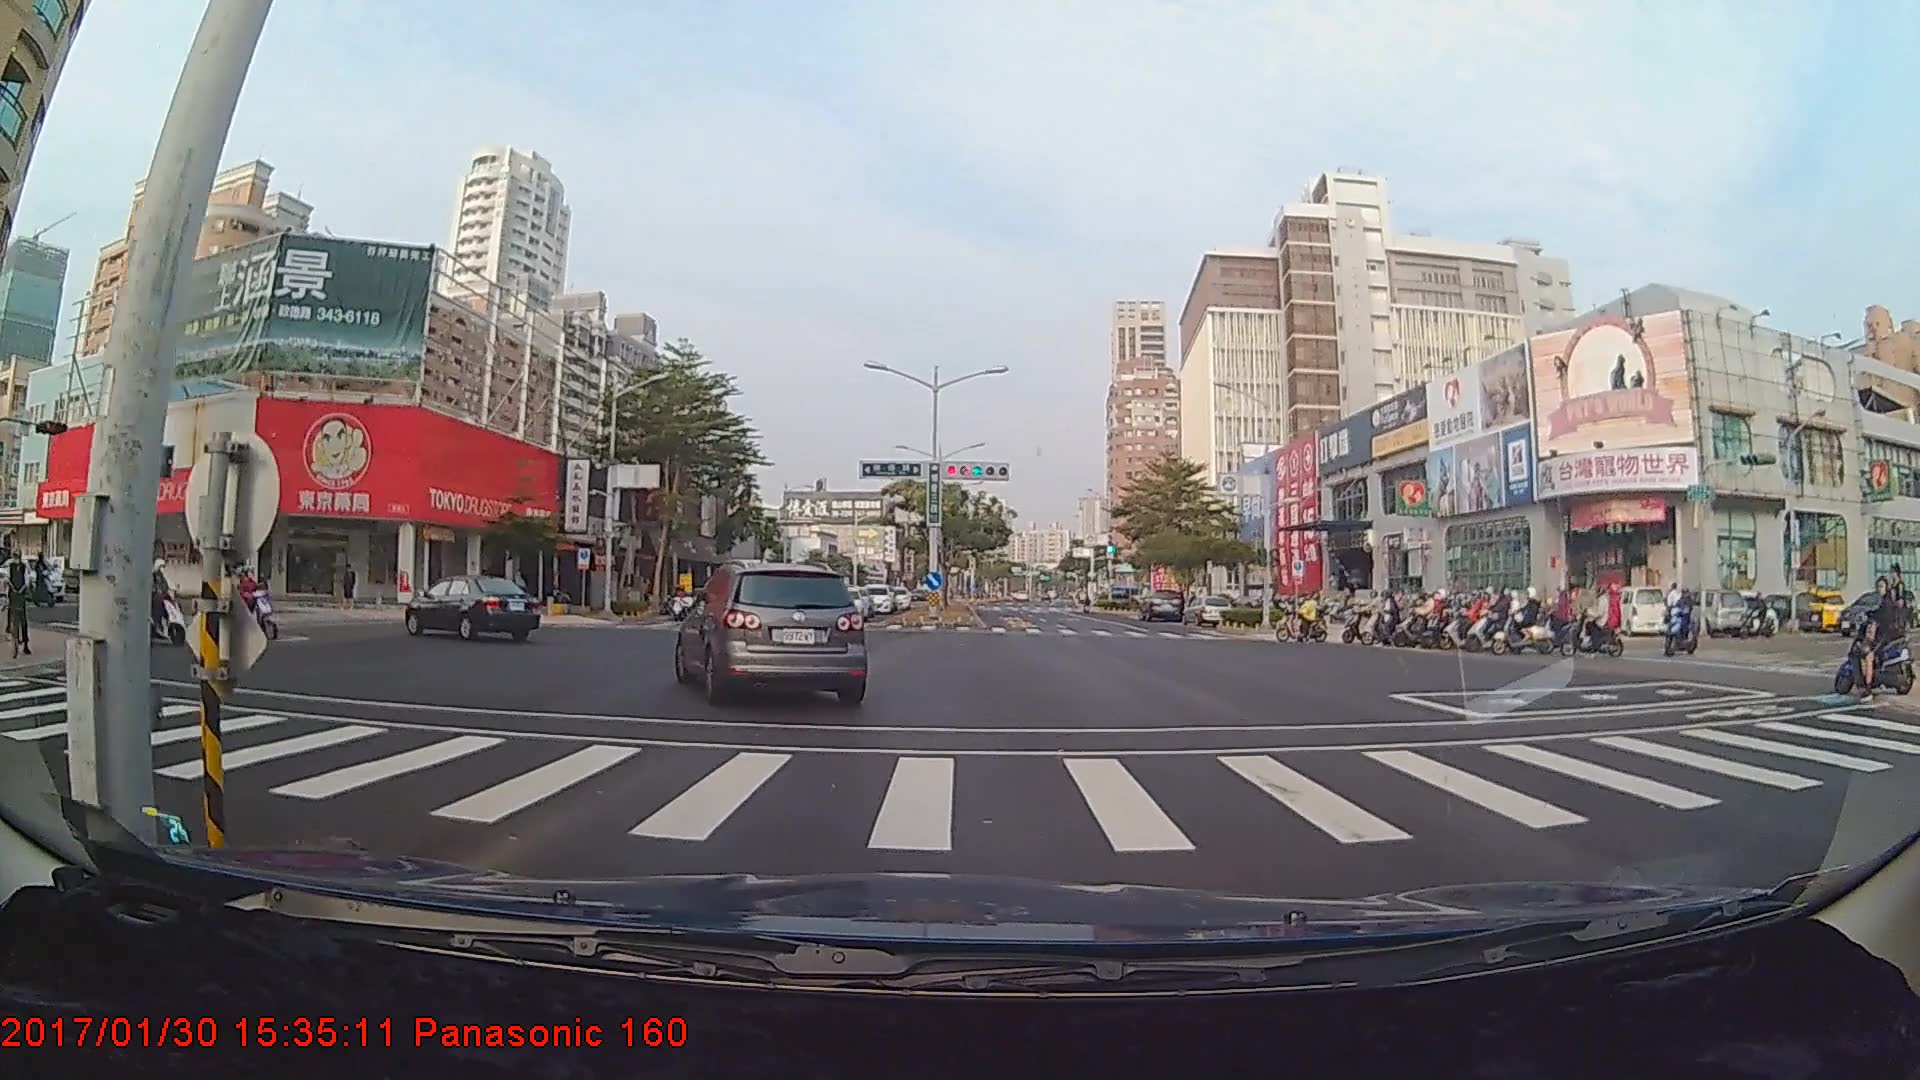rider: (1831, 563, 1920, 703), (1557, 578, 1627, 665), (220, 569, 283, 642), (1495, 587, 1558, 655), (1466, 590, 1525, 649), (1332, 592, 1395, 646), (1374, 592, 1428, 648), (1272, 588, 1329, 641), (1663, 590, 1704, 660), (665, 584, 691, 622)
vehicle: (676, 558, 871, 703), (403, 574, 540, 643), (1137, 586, 1184, 623), (858, 581, 895, 612)
